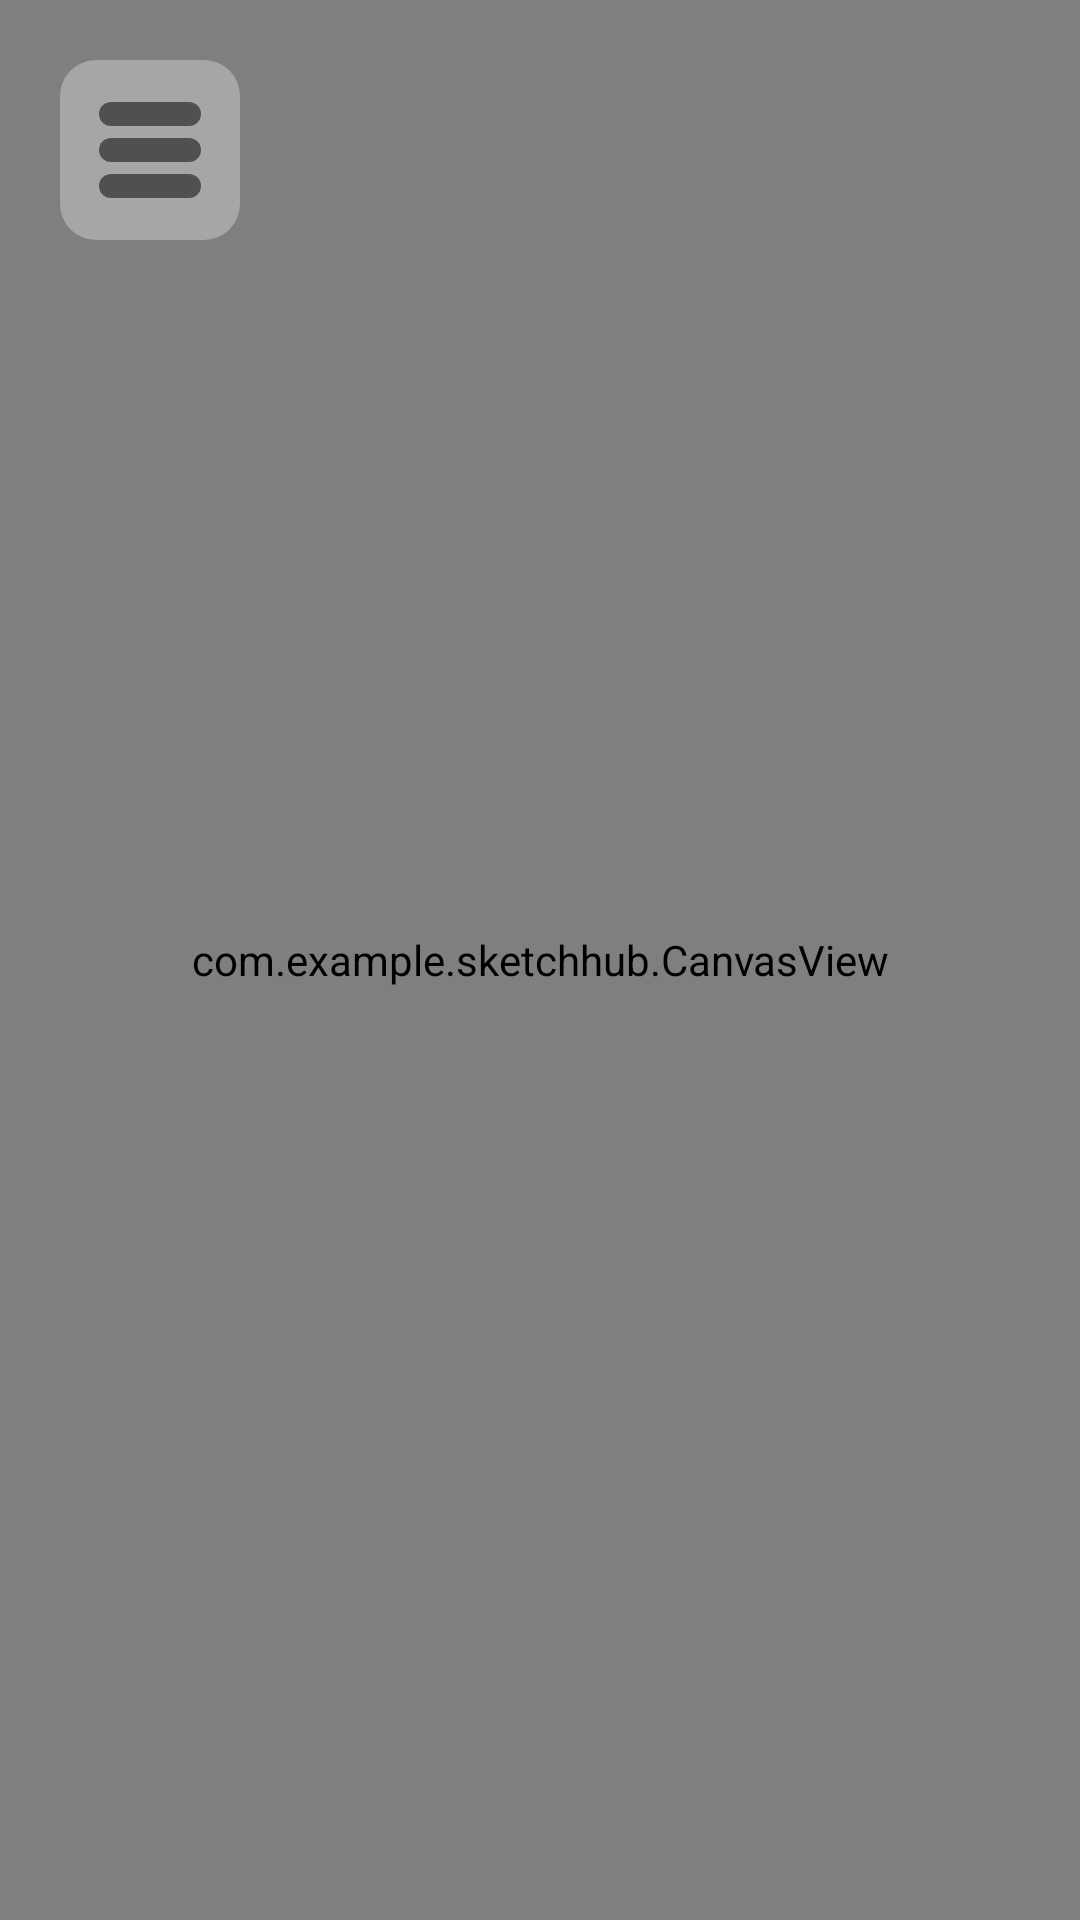

Named icons in this screenshot (1080 x 1920) and their centers, point (x, y):
menu: point (150, 150)
